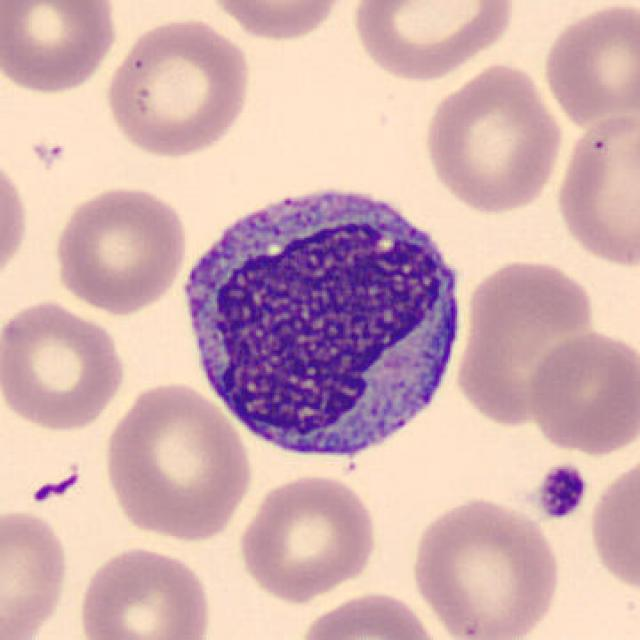Monocyte: (173, 166, 477, 478)
Platelets: (534, 460, 590, 522)
RBC: (100, 377, 256, 543), (453, 254, 599, 430), (405, 493, 563, 640), (420, 60, 567, 217), (101, 14, 256, 161), (234, 470, 380, 604), (48, 182, 190, 316), (0, 296, 130, 434), (523, 326, 638, 457), (348, 0, 521, 85), (551, 108, 640, 270), (73, 543, 215, 640), (538, 0, 640, 128), (0, 0, 121, 97), (0, 504, 73, 638), (585, 450, 640, 600), (292, 587, 444, 640), (201, 0, 354, 44), (0, 148, 32, 295)
